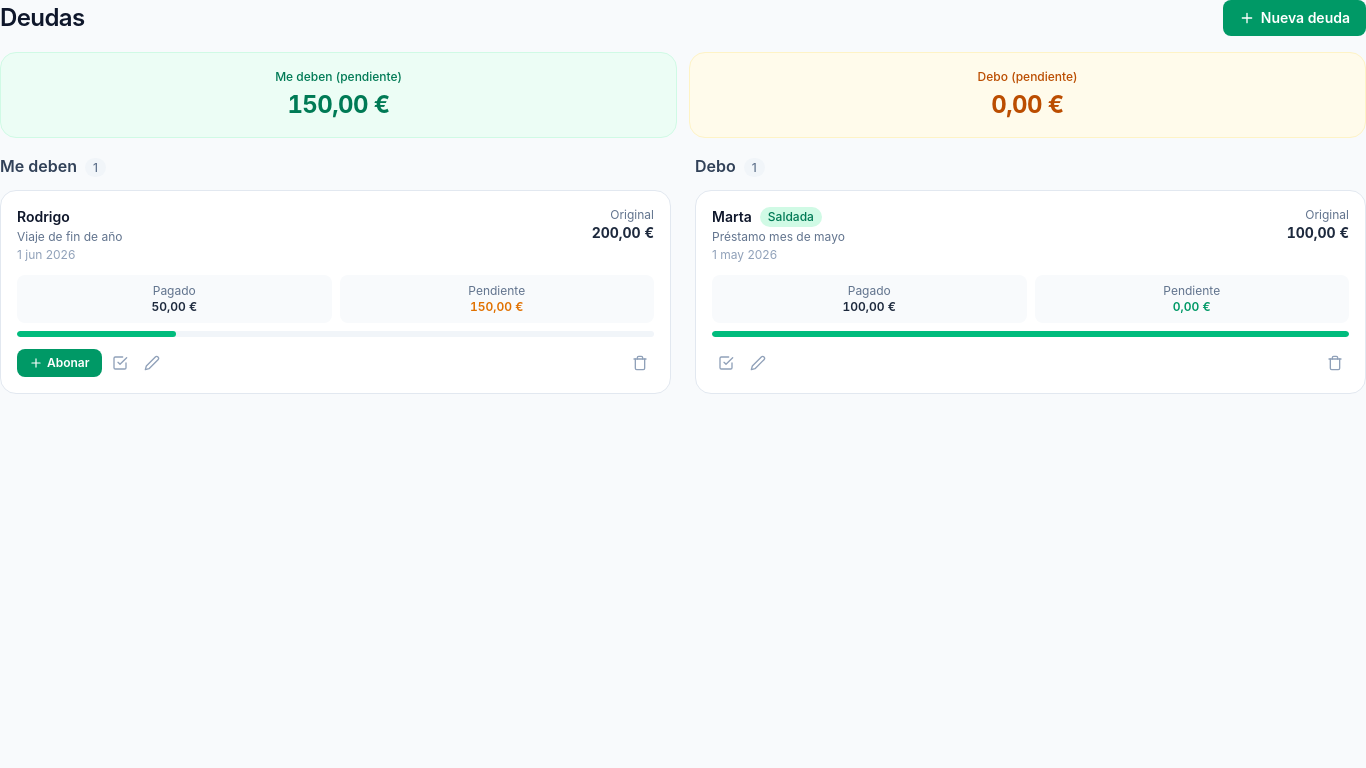
Test case: DebtsPage › shows translated error when payment exceeds pending amount
The image size is (1366, 768).
Check: the text "Rodrigo" is shown, box [17, 207, 70, 227]
Click the button "Abonar".
click(59, 363)  # box [17, 349, 102, 377]
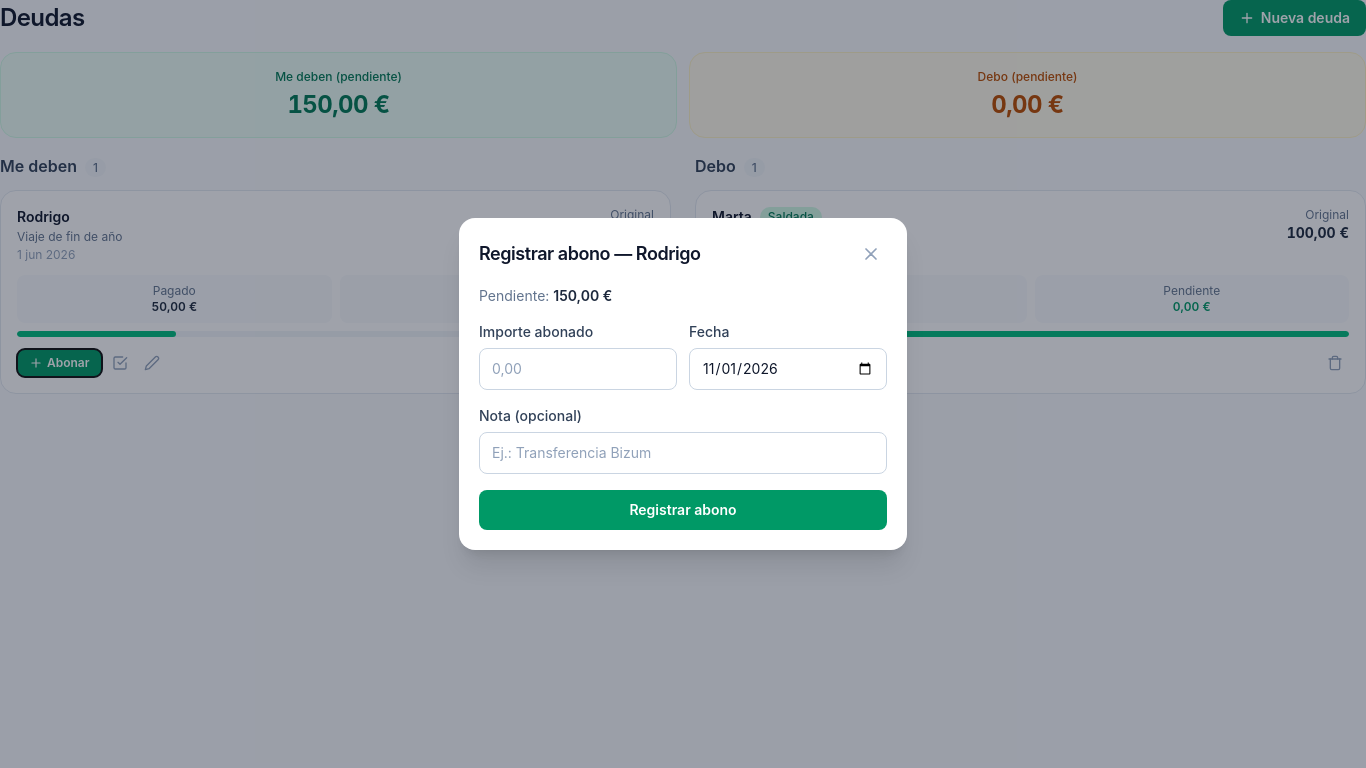
Type "200" into the number field labelled "Importe abonado".
click(578, 369); type("200")  # box [479, 348, 677, 390]
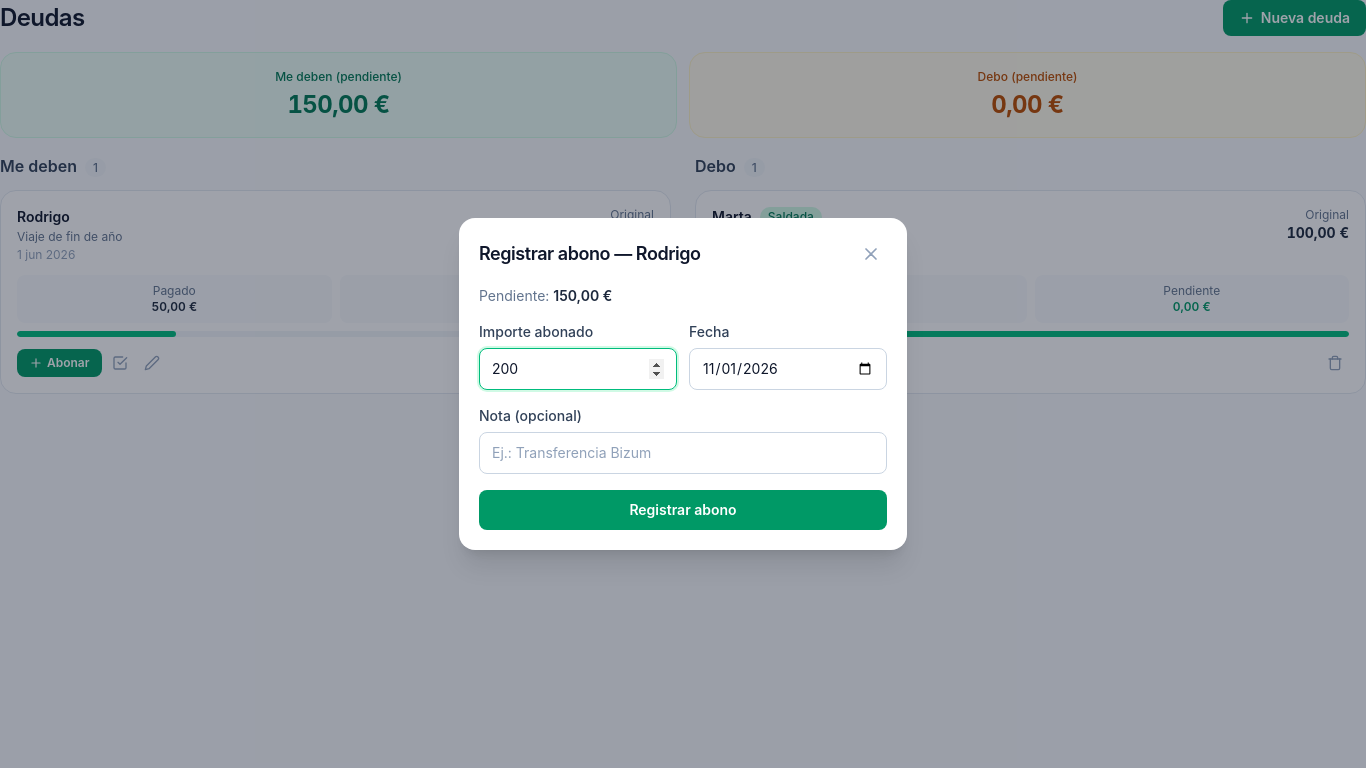
Click the button "Registrar abono".
click(683, 510)  # box [479, 490, 887, 530]
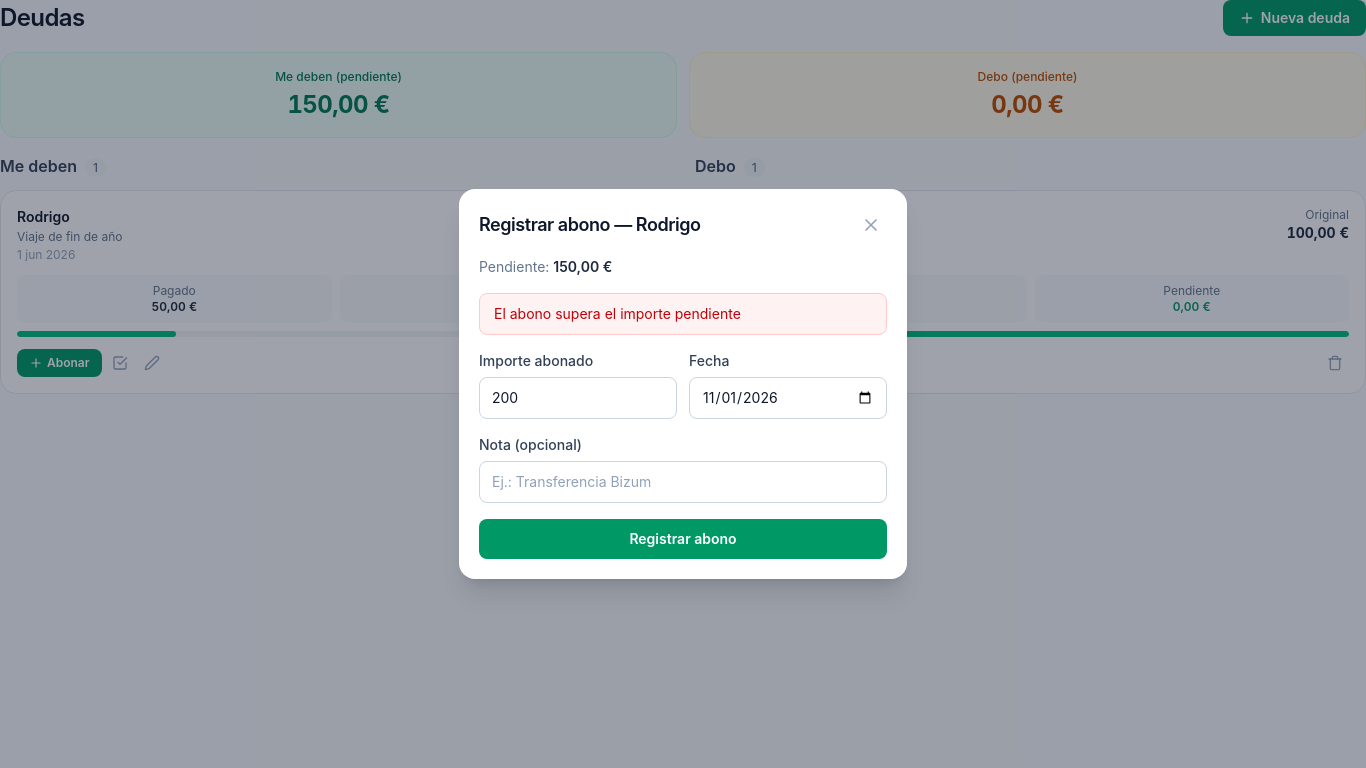
Check: the message reads "El abono supera el importe pendiente", box [494, 305, 741, 322]
